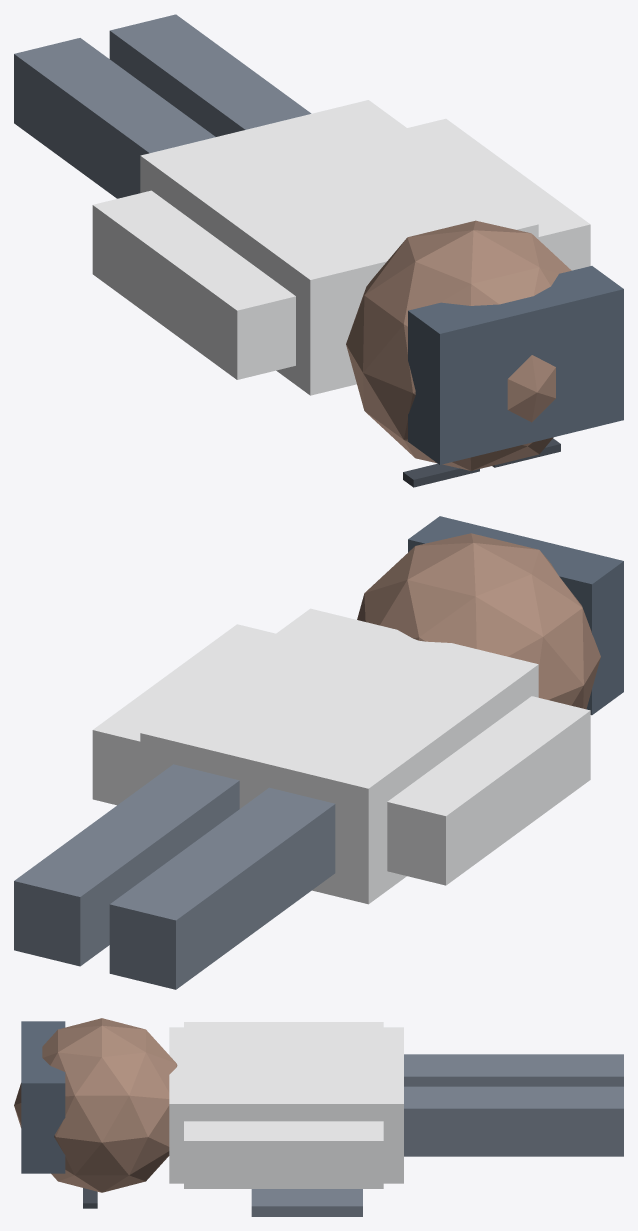
Rendered from researcher_variant_4.glb.
3 renders of one model, top to bottom at view 1: azimuth 30°, elevation 25°; view 2: azimuth 150°, elevation 25°; view 3: azimuth 270°, elevation 25°, orthographic. The views are drawn at different scales.
Visible parts, largest first — view 1: torso_2, hair_6, head_5, arm_l_3, leg_l_0, leg_r_1, arm_r_4, glasses_l_7; view 2: torso_2, leg_l_0, head_5, arm_l_3, leg_r_1, arm_r_4, hair_6; view 3: torso_2, head_5, leg_r_1, arm_r_4, leg_l_0, hair_6, tablet_9, arm_l_3, glasses_r_8.
Boxes of the visible parts, bbox=[...] form: torso_2: bbox=[140, 100, 538, 395]; hair_6: bbox=[408, 266, 623, 464]; head_5: bbox=[346, 220, 571, 470]; arm_l_3: bbox=[92, 190, 295, 379]; leg_l_0: bbox=[14, 38, 215, 198]; leg_r_1: bbox=[109, 14, 311, 136]; arm_r_4: bbox=[407, 118, 590, 270]; glasses_l_7: bbox=[403, 463, 479, 487]; torso_2: bbox=[140, 608, 538, 904]; leg_l_0: bbox=[109, 787, 335, 989]; head_5: bbox=[357, 533, 600, 709]; arm_l_3: bbox=[387, 696, 590, 885]; leg_r_1: bbox=[14, 764, 239, 966]; arm_r_4: bbox=[92, 624, 275, 805]; hair_6: bbox=[408, 516, 623, 715]; torso_2: bbox=[169, 1027, 403, 1183]; head_5: bbox=[14, 1018, 177, 1192]; leg_r_1: bbox=[404, 1086, 623, 1156]; arm_r_4: bbox=[184, 1121, 383, 1188]; leg_l_0: bbox=[404, 1054, 623, 1086]; hair_6: bbox=[21, 1021, 65, 1173]; tablet_9: bbox=[251, 1189, 362, 1216]; arm_l_3: bbox=[184, 1022, 383, 1027]; glasses_r_8: bbox=[83, 1188, 97, 1208].
Bounding box in the file's own units: 0.96 × 0.6 × 2.08.
